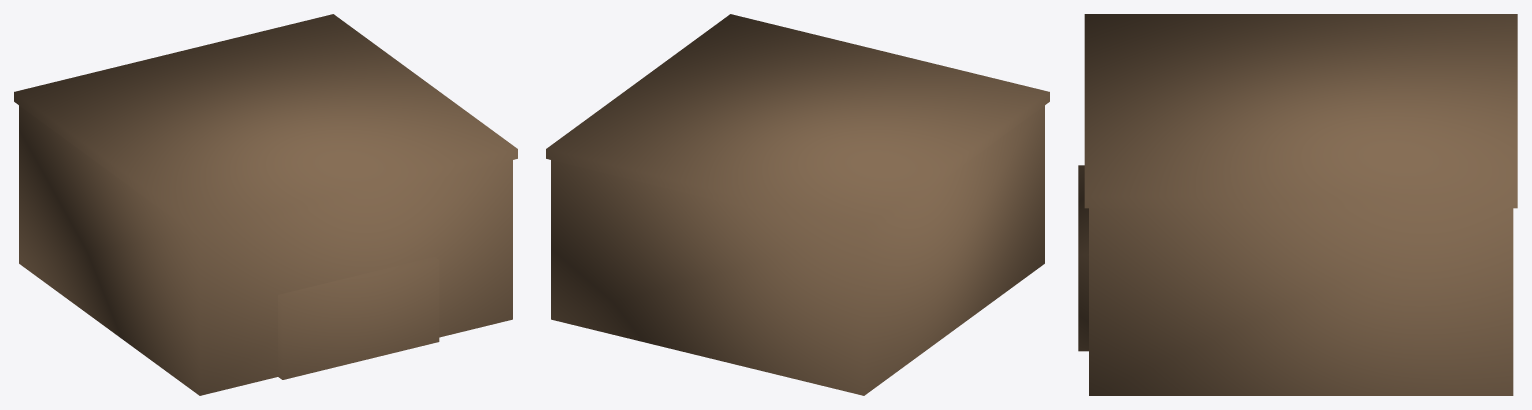
File: marketplace.obj
3 renders of one model, left to right at view 1: azimuth 30°, elevation 25°; view 2: azimuth 150°, elevation 25°; view 3: azimuth 270°, elevation 25°, orthographic. The views are drawn at different scales.
Visible parts, largest first — view 1: building; view 2: building; view 3: building.
Part boxes in pixels (x1,y1,x2,y2): building: (14,14,517,395); building: (546,14,1049,395); building: (1078,14,1517,395).
Size of the model in its own units: 4.08 by 2.09 by 4.14.
